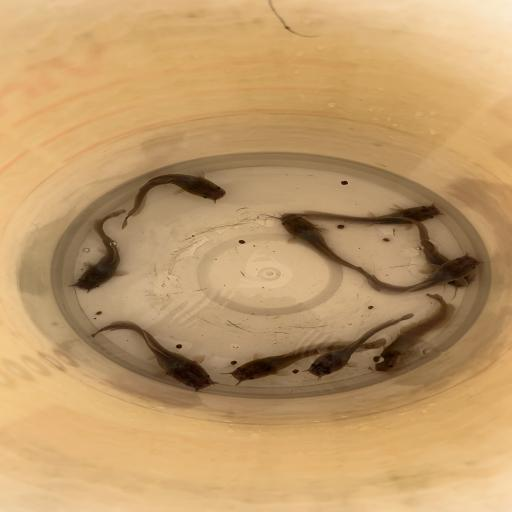lele: (90, 320, 214, 391), (307, 312, 415, 379), (230, 337, 387, 383), (379, 216, 474, 290), (277, 213, 377, 281), (370, 294, 456, 373), (120, 170, 227, 231), (357, 252, 483, 294), (72, 208, 130, 290), (280, 202, 446, 226)
